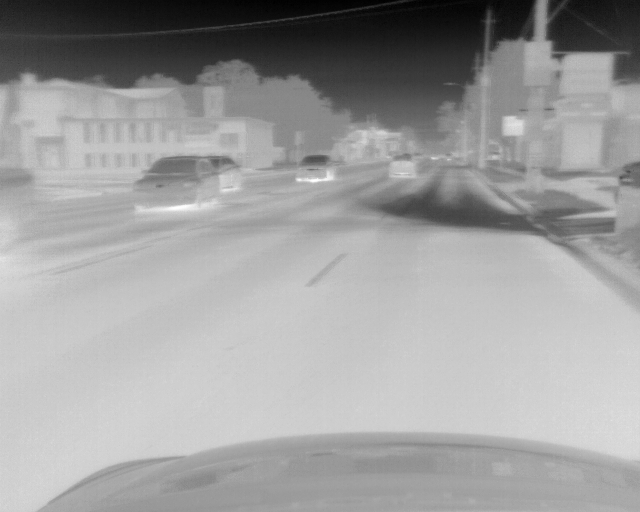car: (131, 157, 220, 210), (1, 160, 38, 252), (209, 154, 242, 193), (294, 154, 335, 182), (388, 155, 418, 180)
